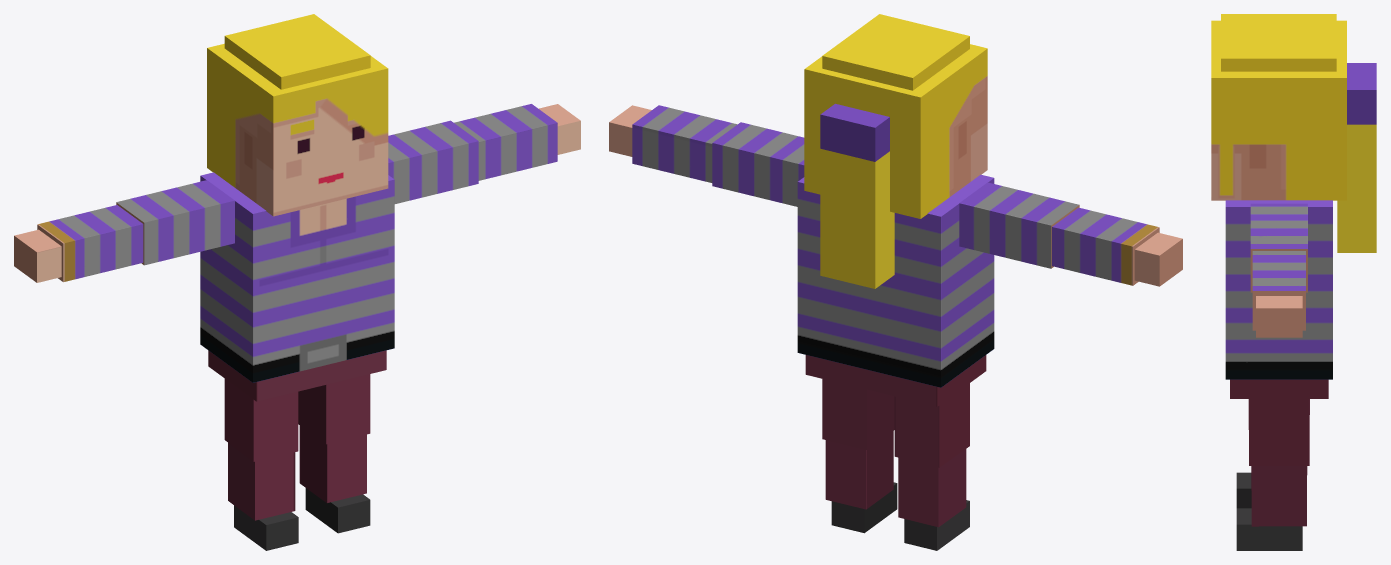
File: SK_Character_HouseWife.fbx
3 renders of one model, left to right at view 1: azimuth 30°, elevation 25°; view 2: azimuth 150°, elevation 25°; view 3: azimuth 270°, elevation 25°, orthographic. The views are drawn at different scales.
Visible parts, largest first — view 1: CH_HouseWife; view 2: CH_HouseWife; view 3: CH_HouseWife.
Part boxes in pixels (bbox=[...]): CH_HouseWife: bbox=[14, 14, 580, 550]; CH_HouseWife: bbox=[609, 14, 1182, 550]; CH_HouseWife: bbox=[1211, 14, 1376, 550].
Bounding box in the file's own units: 337 × 283 × 86.8.
Materials: 1 (1 with a texture image).
